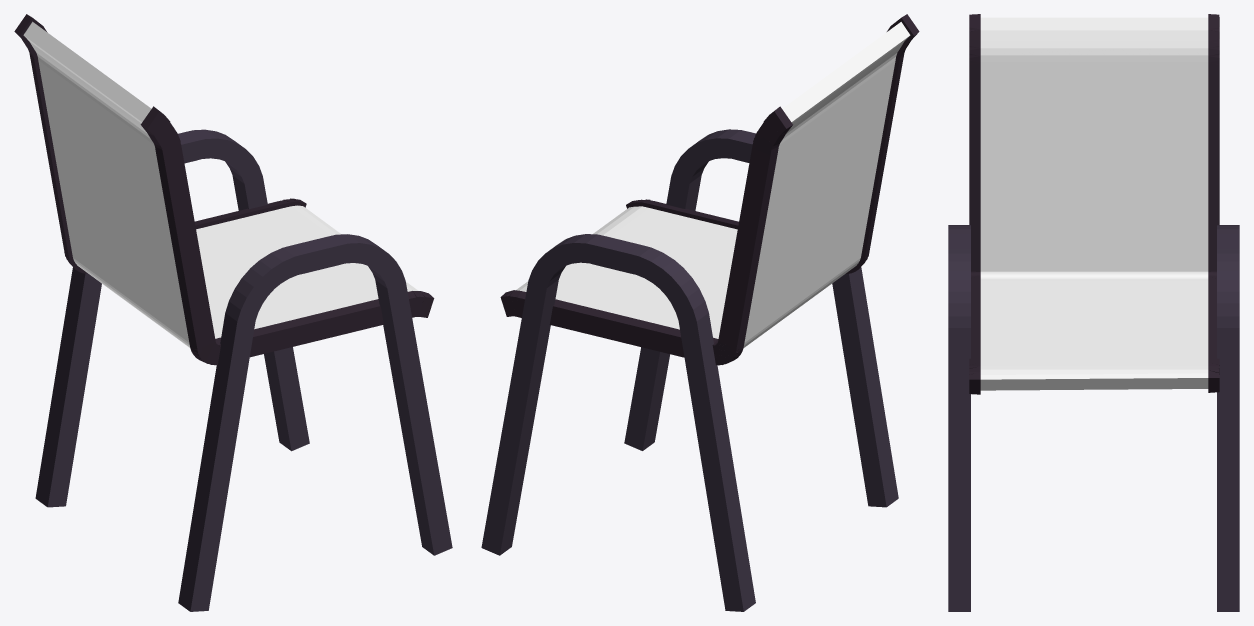
The model's file is Krzeslo.fbx.
3 renders of one model, left to right at view 1: azimuth 30°, elevation 25°; view 2: azimuth 150°, elevation 25°; view 3: azimuth 270°, elevation 25°, orthographic. The views are drawn at different scales.
Parts seen in each view (by area): view 1: Krzeslo; view 2: Krzeslo; view 3: Krzeslo.
Part boxes in pixels (<box>): Krzeslo: <box>14,14,452,611</box>; Krzeslo: <box>481,14,919,611</box>; Krzeslo: <box>948,14,1239,611</box>.
Bounding box in the file's own units: 2.3 × 3.74 × 2.1.
